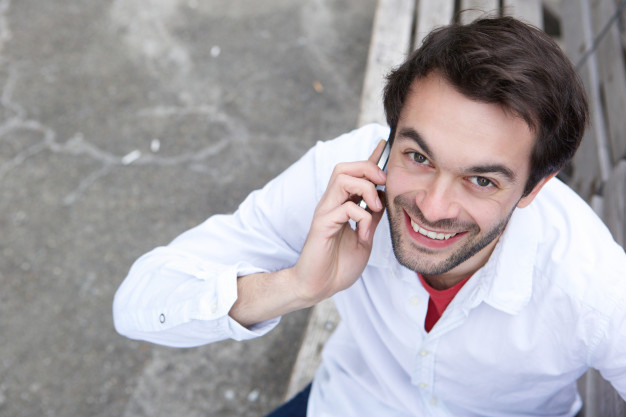phone: (360, 131, 395, 238)
talk: (285, 107, 524, 317)
